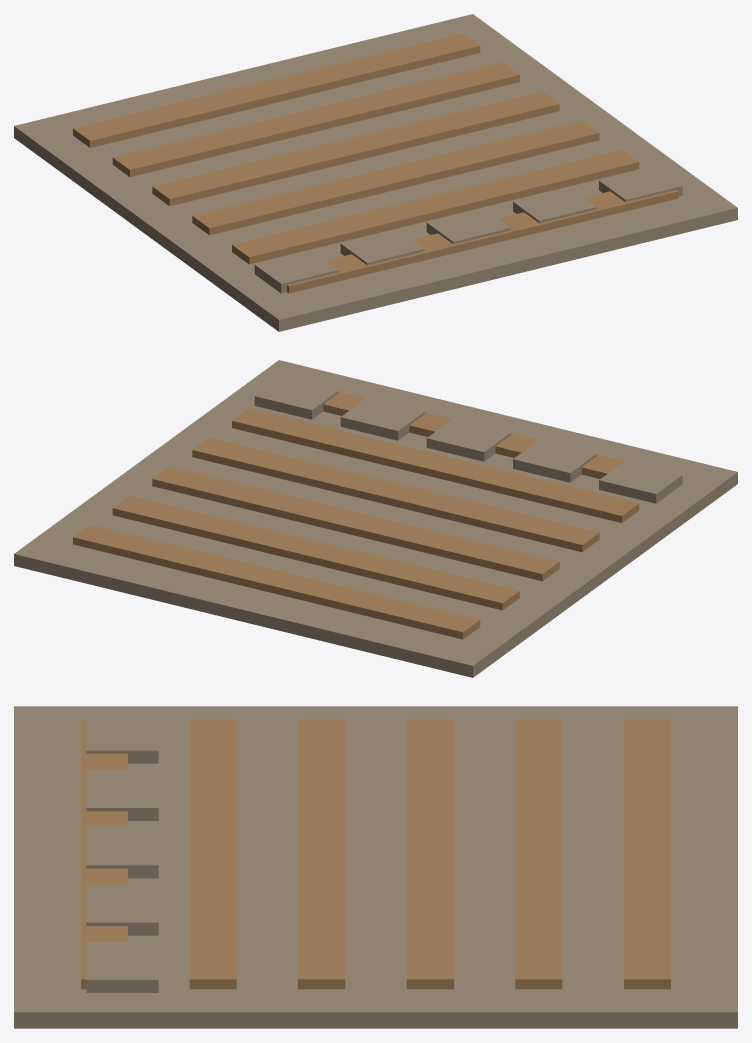
File: churned-ground-patch.glb
The picture shows the model from 3 angles, top to bottom: view 1: azimuth 30°, elevation 25°; view 2: azimuth 150°, elevation 25°; view 3: azimuth 270°, elevation 25°; orthographic projection. The views are drawn at different scales.
Visible parts, largest first — view 1: churned-ground-patch; view 2: churned-ground-patch; view 3: churned-ground-patch.
Part boxes in pixels (<box>): churned-ground-patch: <box>14,14,737,331</box>; churned-ground-patch: <box>14,360,737,677</box>; churned-ground-patch: <box>14,706,737,1028</box>.
Size of the model in its own units: 4 by 0.1802 by 4.
